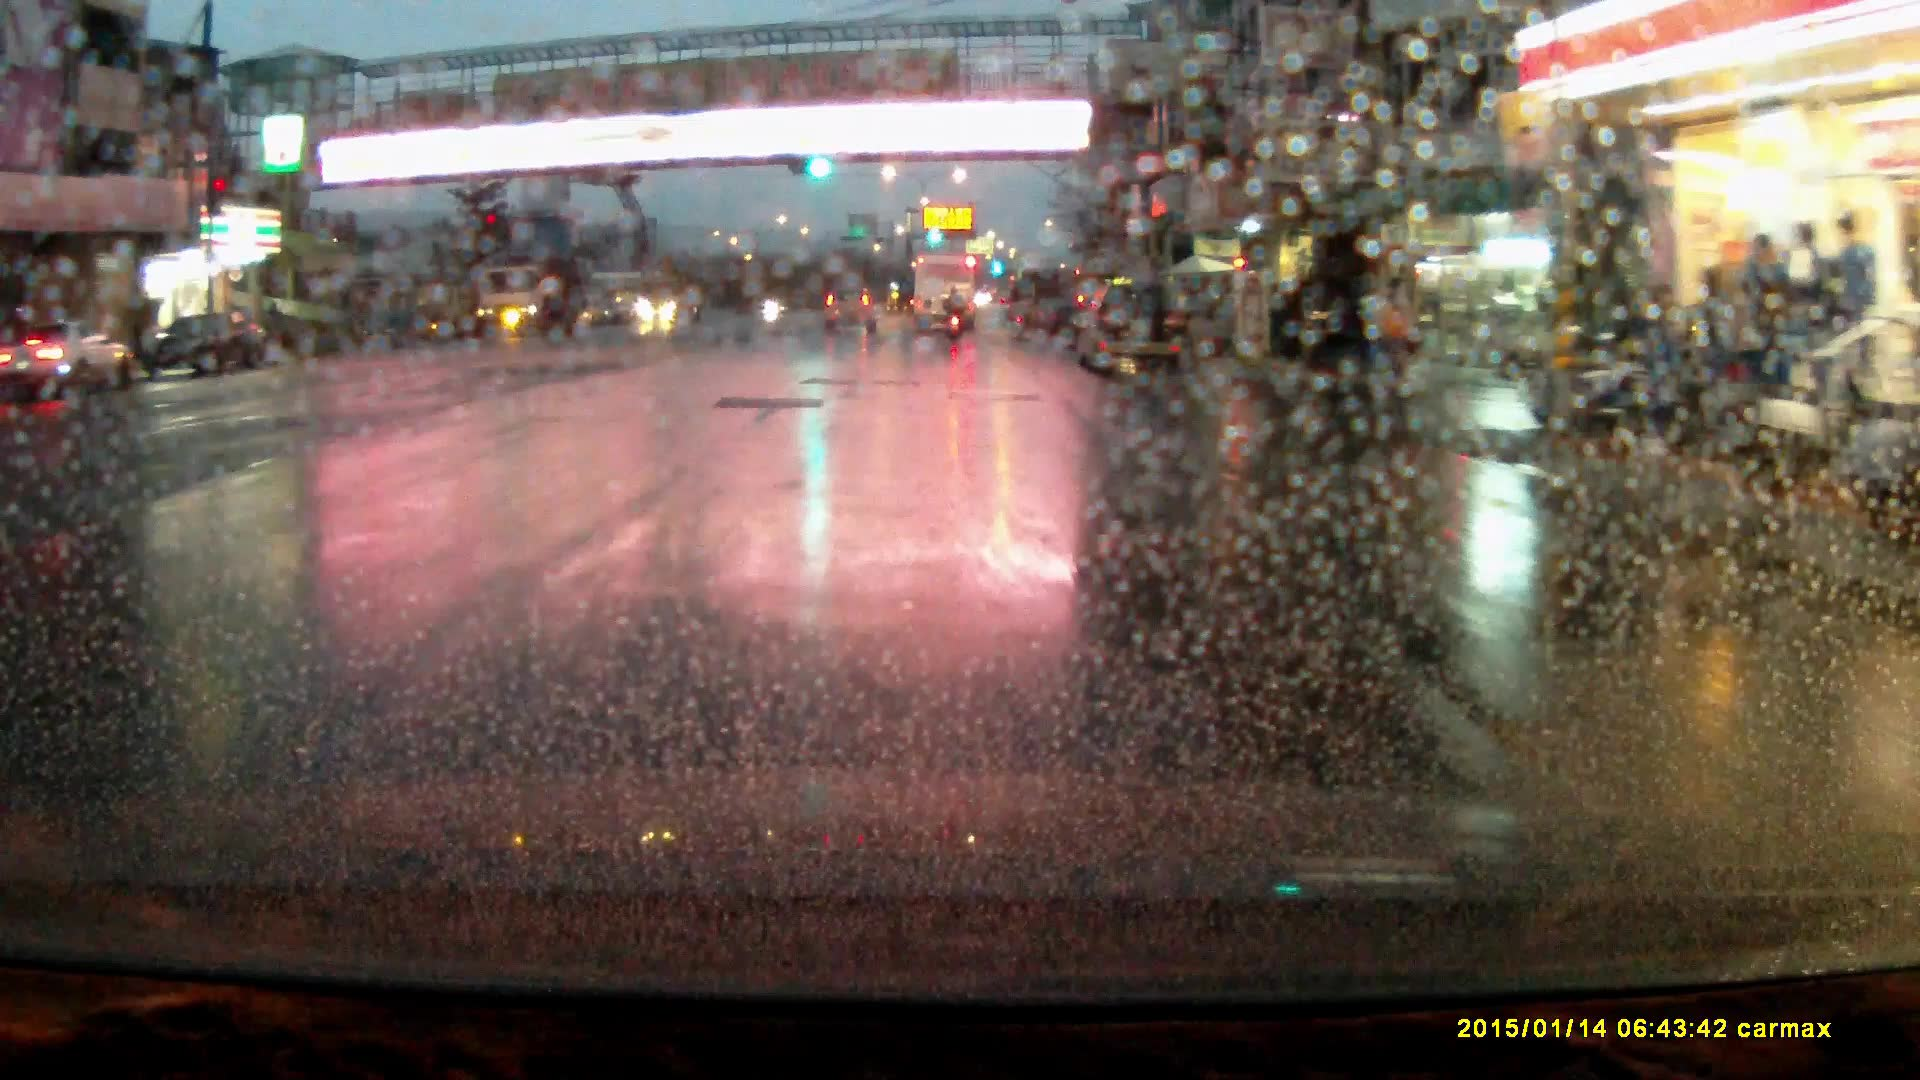rider: (942, 282, 966, 340)
vehicle: (1074, 284, 1181, 380), (135, 313, 275, 383), (4, 321, 126, 397), (472, 263, 582, 340), (1273, 282, 1367, 362), (914, 255, 978, 334), (637, 277, 704, 327), (823, 289, 878, 336)
